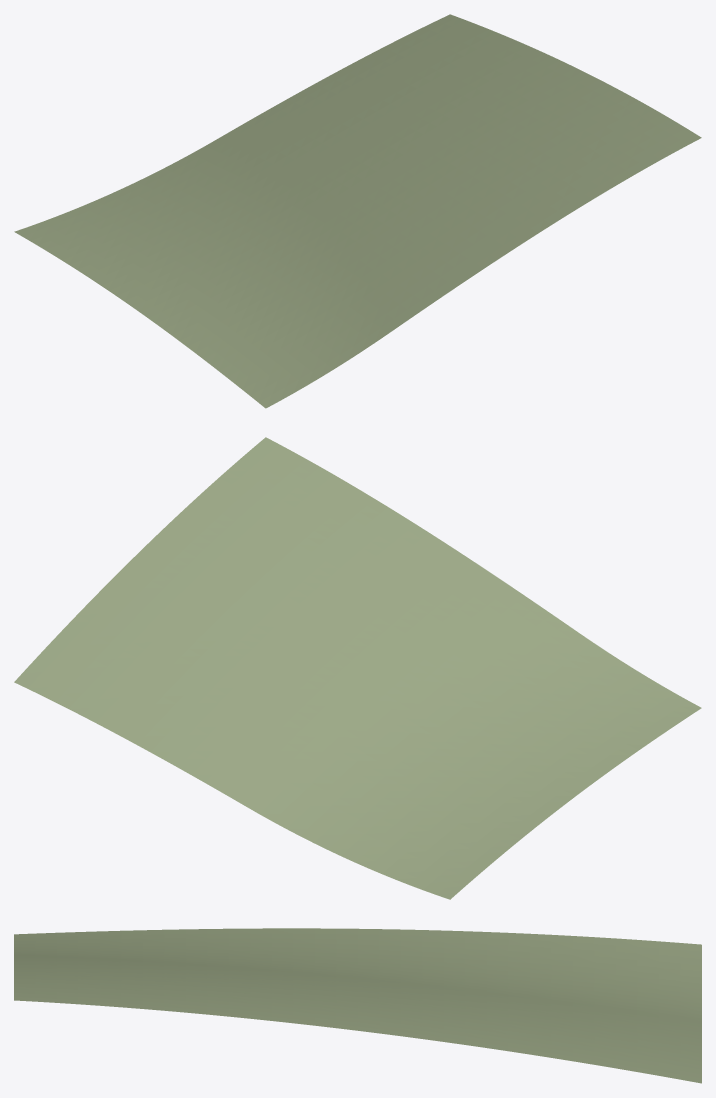
File: expanse-25-6.glb
The picture shows the model from 3 angles, top to bottom: view 1: azimuth 30°, elevation 25°; view 2: azimuth 150°, elevation 25°; view 3: azimuth 270°, elevation 25°; orthographic projection. The views are drawn at different scales.
Visible parts, largest first — view 1: expanse-25-6; view 2: expanse-25-6; view 3: expanse-25-6.
Part boxes in pixels (x1,y1,x2,y2): expanse-25-6: (14, 14, 701, 408); expanse-25-6: (14, 437, 701, 899); expanse-25-6: (14, 928, 701, 1083).
Size of the model in its own units: 256 by 96.42 by 256.
